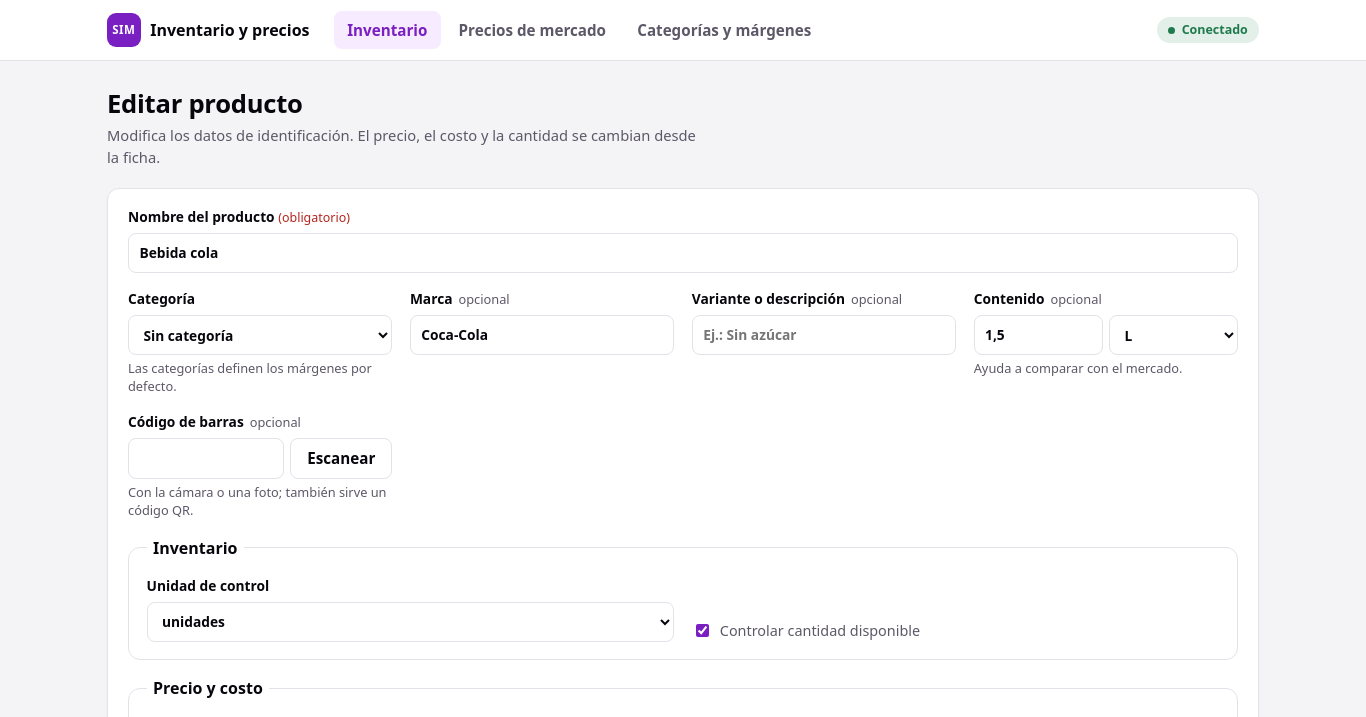
Test: pantallas › editar la ficha sin tocar el contenido conserva 1,5 L (H-02)
Expected: the field named "Cantidad del contenido" holds "1,5", 974,315 -> 1103,355
Replace the text in the field labelled "Marca opcional" with "Coca-Cola Chile" at (542, 335), box 410,315 -> 674,355
(page scrolled)
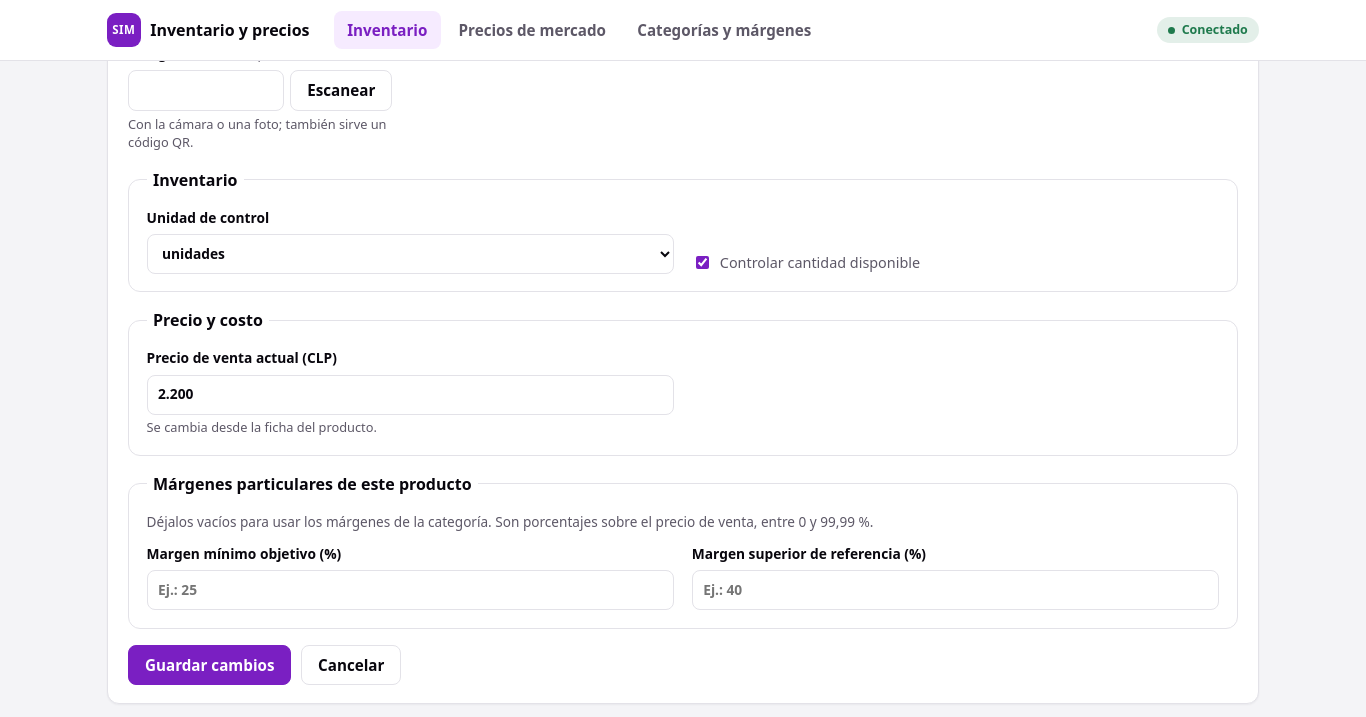
Click the button "Guardar cambios" at (210, 665), box 128,645 -> 292,685
(page scrolled)
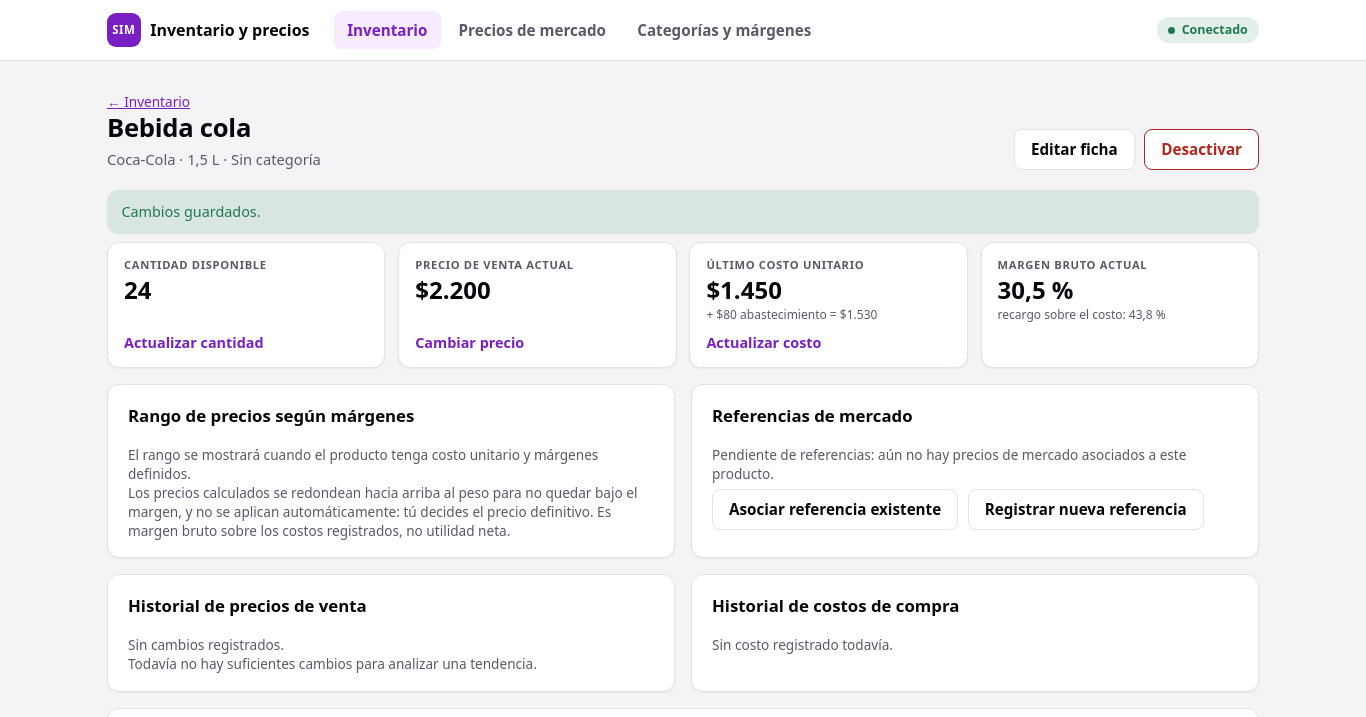
Now the text "Cambios guardados." is shown, box 107,190 -> 1259,234
